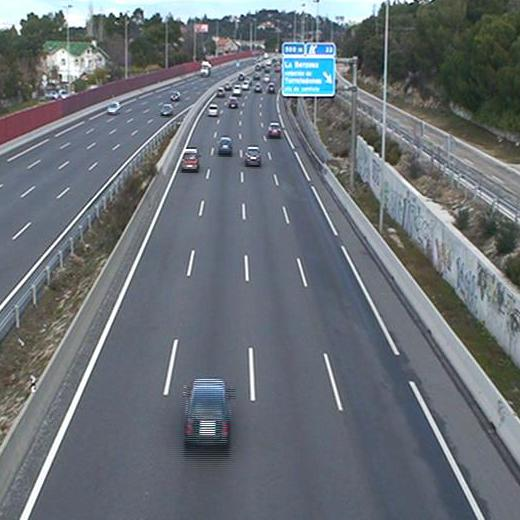car: (180, 378, 233, 442), (180, 148, 200, 169), (244, 145, 263, 163), (216, 137, 233, 153), (266, 121, 283, 137), (227, 95, 239, 108), (207, 103, 218, 115)
